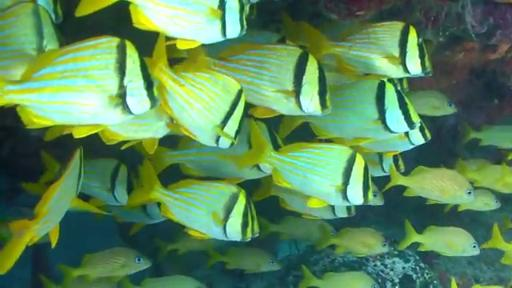Fish: (0, 36, 159, 129), (234, 121, 374, 207), (0, 148, 88, 275), (147, 34, 245, 147), (128, 160, 259, 241), (195, 44, 331, 118), (279, 80, 420, 145), (284, 16, 431, 78), (148, 120, 271, 180), (124, 0, 249, 49), (0, 1, 59, 80), (252, 177, 355, 219), (98, 105, 181, 153), (99, 105, 180, 153), (383, 166, 474, 203), (59, 248, 151, 283), (398, 220, 480, 256), (352, 122, 431, 155), (80, 159, 131, 206), (81, 159, 131, 206), (203, 29, 285, 57), (259, 216, 335, 244), (316, 228, 389, 256), (208, 247, 280, 273), (456, 159, 511, 193), (105, 204, 165, 235), (156, 233, 222, 259), (22, 151, 61, 195), (299, 266, 379, 287), (0, 0, 63, 23), (407, 90, 457, 116), (462, 124, 511, 149), (481, 224, 511, 264), (0, 208, 32, 243), (457, 188, 501, 211), (122, 275, 206, 287), (362, 153, 405, 176), (40, 276, 117, 287), (36, 0, 63, 23), (368, 182, 384, 205), (500, 217, 511, 231)
